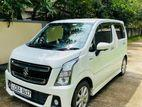car: (5, 19, 129, 107)
